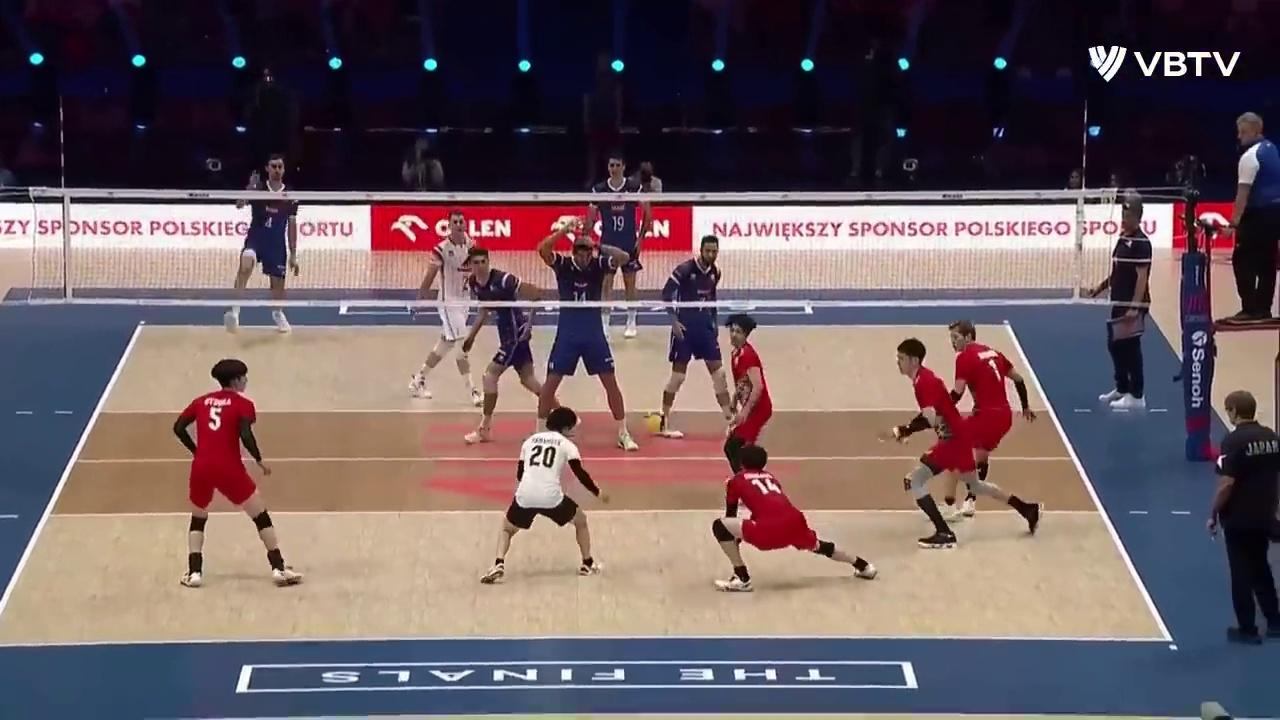ball: (645, 411, 665, 434)
